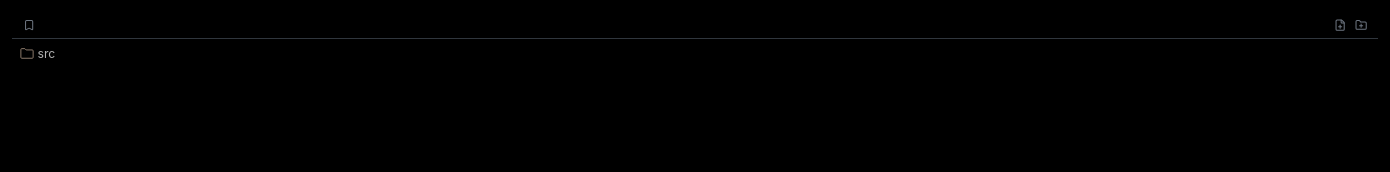
Test case: FileTreePanel › context menu does not show Open File for directories
Right-click the button "src".
right_click(27, 53)  # box [12, 43, 1378, 64]
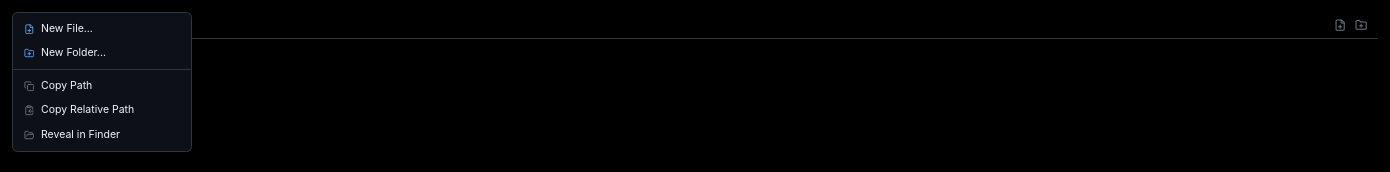
Expected: the button "New File..." is shown, [13, 16, 191, 41]
